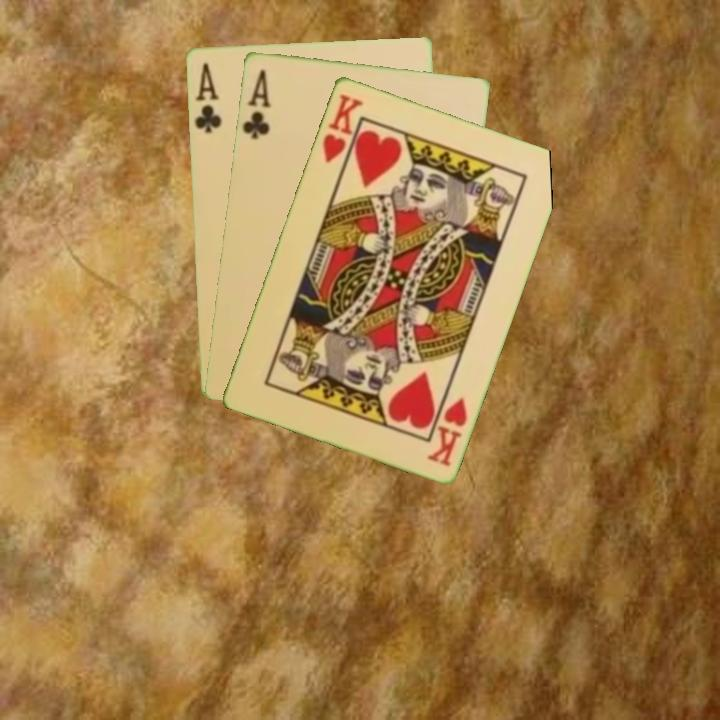Ac: (238, 65, 274, 141), (190, 59, 224, 135)
Kh: (318, 90, 365, 174), (423, 393, 470, 469)
